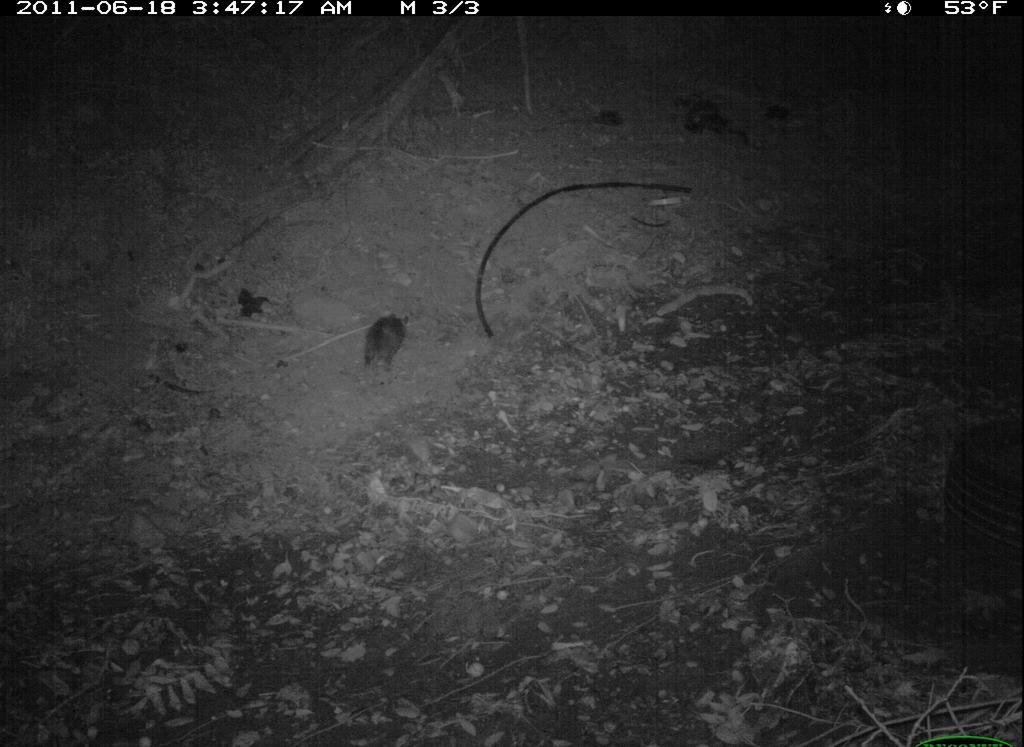opossum: (347, 304, 417, 387)
